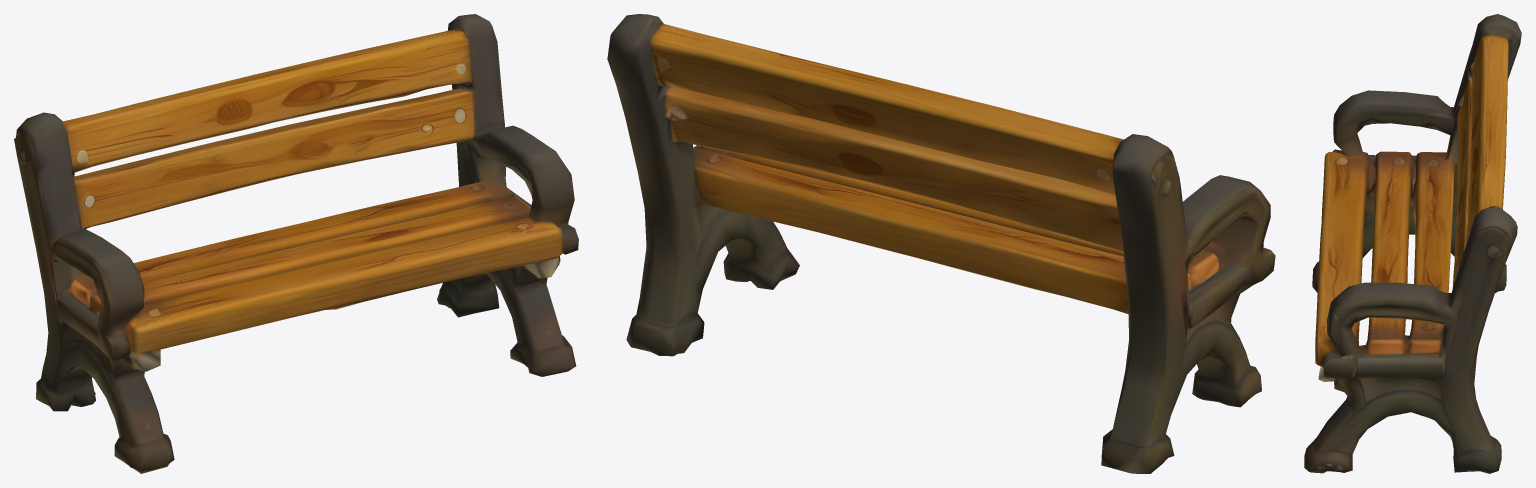
File: bank.glb
3 renders of one model, left to right at view 1: azimuth 30°, elevation 25°; view 2: azimuth 150°, elevation 25°; view 3: azimuth 270°, elevation 25°, orthographic. The views are drawn at different scales.
Visible parts, largest first — view 1: tripo_node_00333c58-5d7c-417b-8693-bf30727e41ed; view 2: tripo_node_00333c58-5d7c-417b-8693-bf30727e41ed; view 3: tripo_node_00333c58-5d7c-417b-8693-bf30727e41ed.
Boxes of the visible parts, <box> form: tripo_node_00333c58-5d7c-417b-8693-bf30727e41ed: <box>14,14,578,473</box>; tripo_node_00333c58-5d7c-417b-8693-bf30727e41ed: <box>607,14,1275,473</box>; tripo_node_00333c58-5d7c-417b-8693-bf30727e41ed: <box>1304,14,1521,473</box>.
Size of the model in its own units: 1 by 0.5878 by 0.4326.
Materials: 1 (1 with a texture image).
